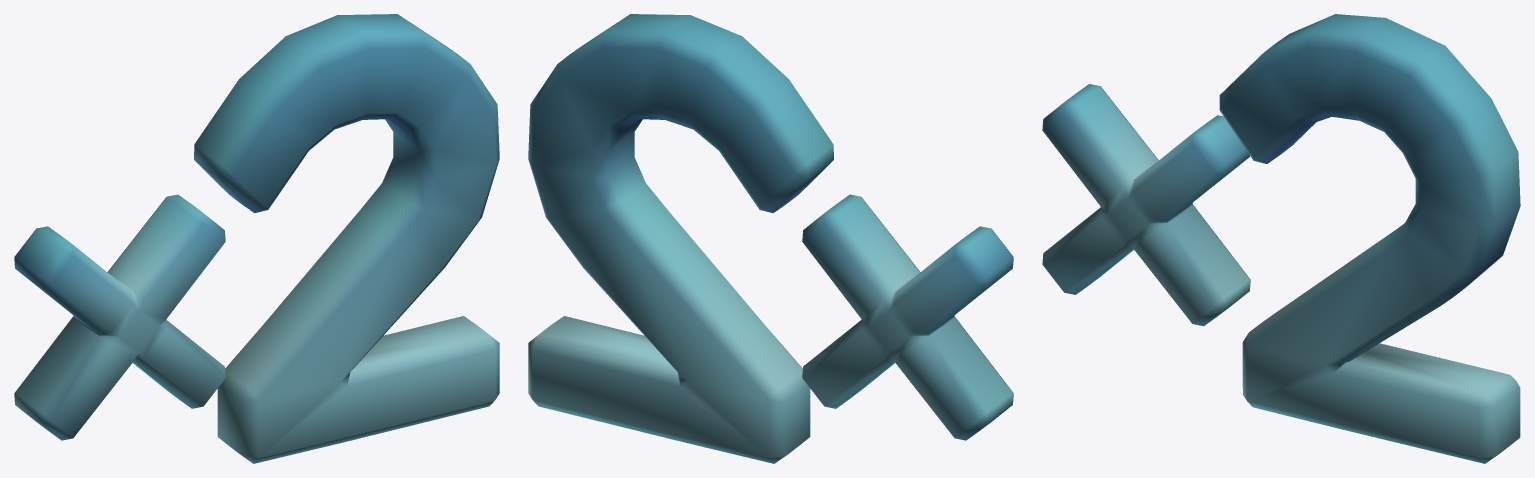
The model's file is Multiply.glb.
The picture shows the model from 3 angles, left to right: view 1: azimuth 30°, elevation 25°; view 2: azimuth 150°, elevation 25°; view 3: azimuth 330°, elevation 25°; orthographic projection.
Parts seen in each view (by area): view 1: Multiplyer; view 2: Multiplyer; view 3: Multiplyer.
Part boxes in pixels (x1=…): Multiplyer: x1=14, y1=14, x2=499, y2=463; Multiplyer: x1=528, y1=14, x2=1013, y2=463; Multiplyer: x1=1042, y1=14, x2=1520, y2=463.
Bounding box in the file's own units: 0.4951 × 0.416 × 0.0712.
